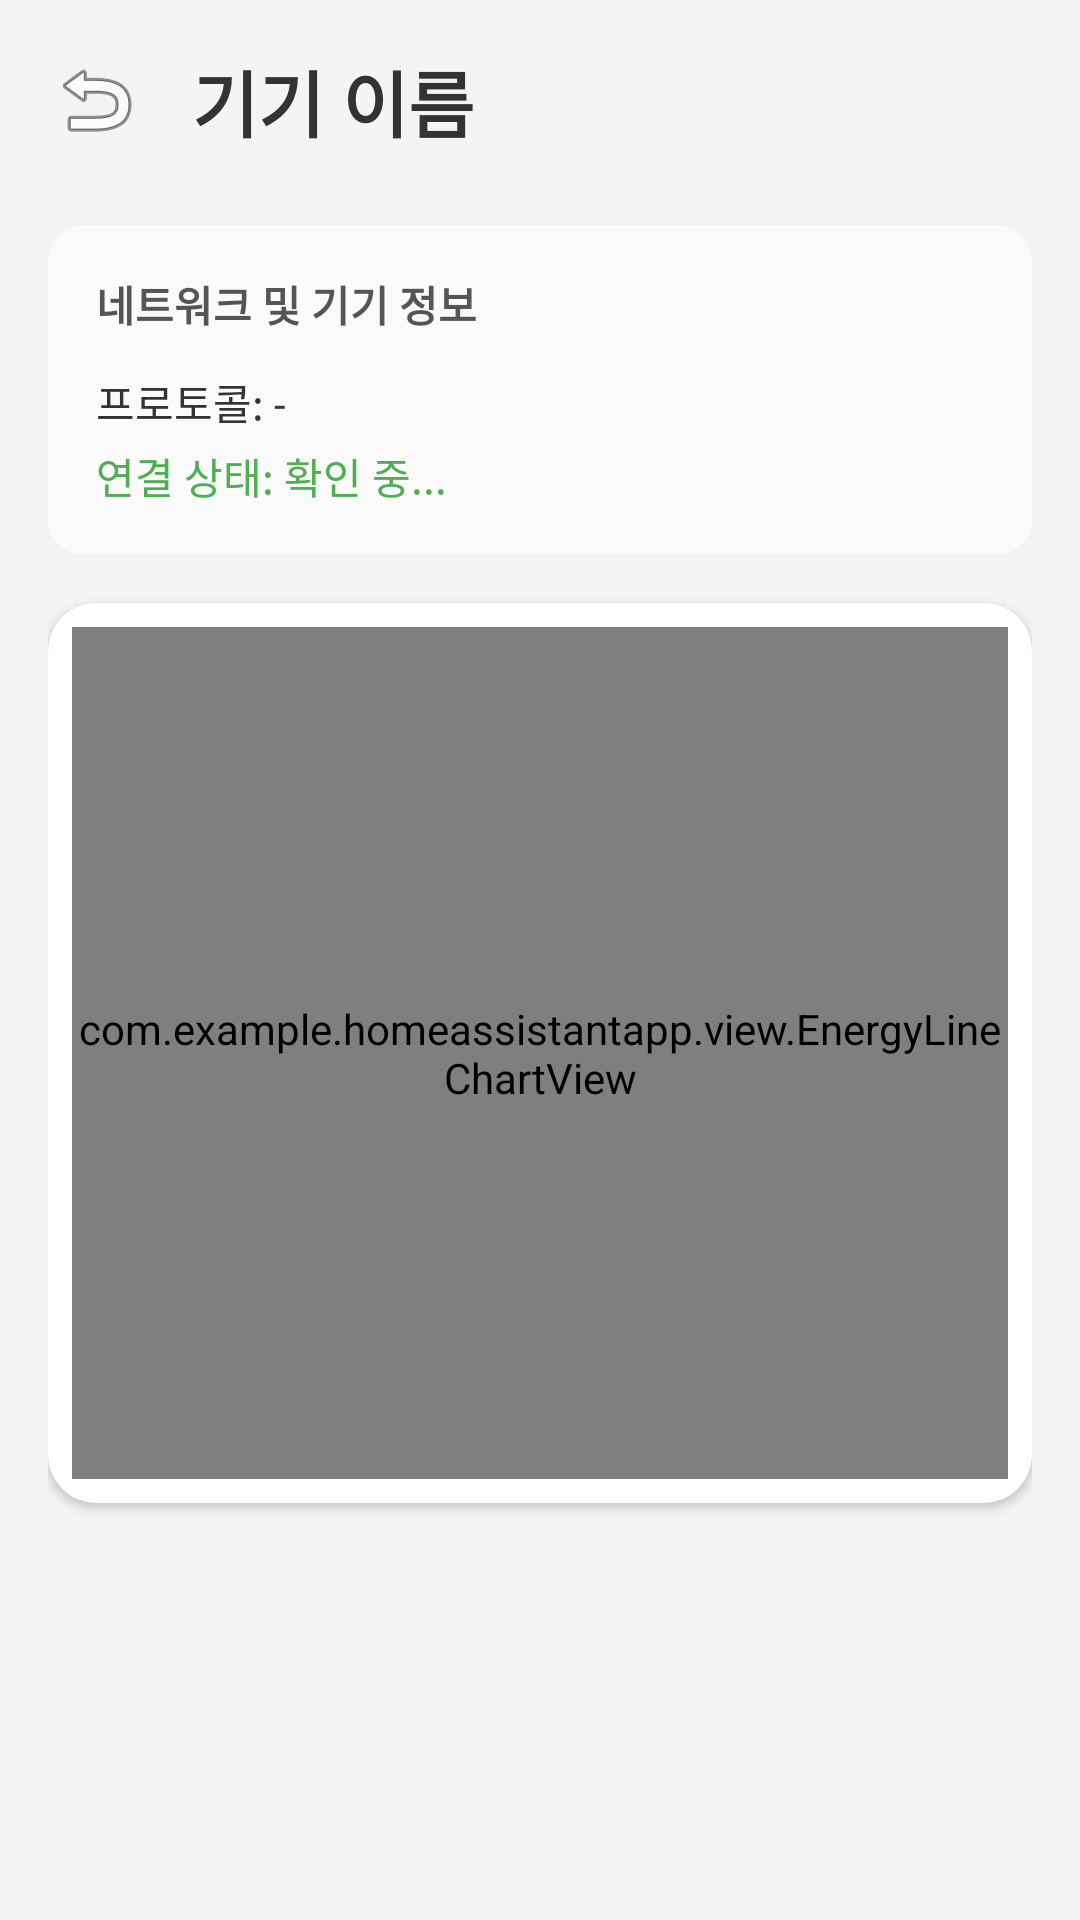

Icon click points for this 1080 x 1920 phone screenshot, format (x,y):
revert: (97,100)
